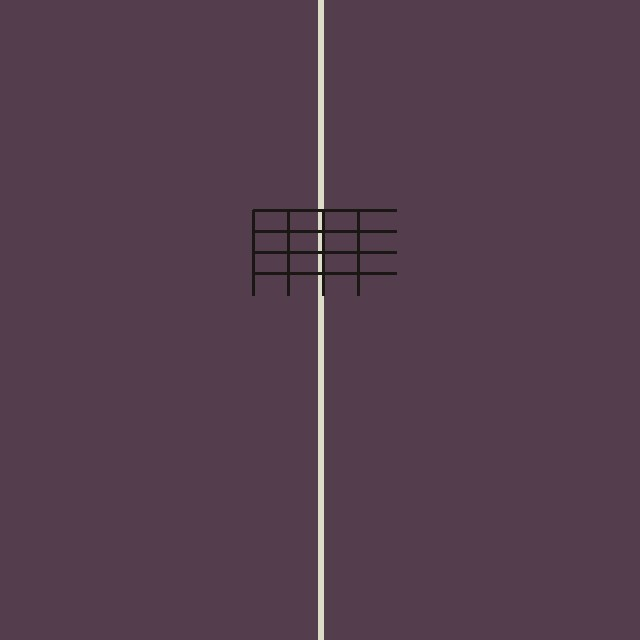alligator_crack: (253, 210, 396, 295)
